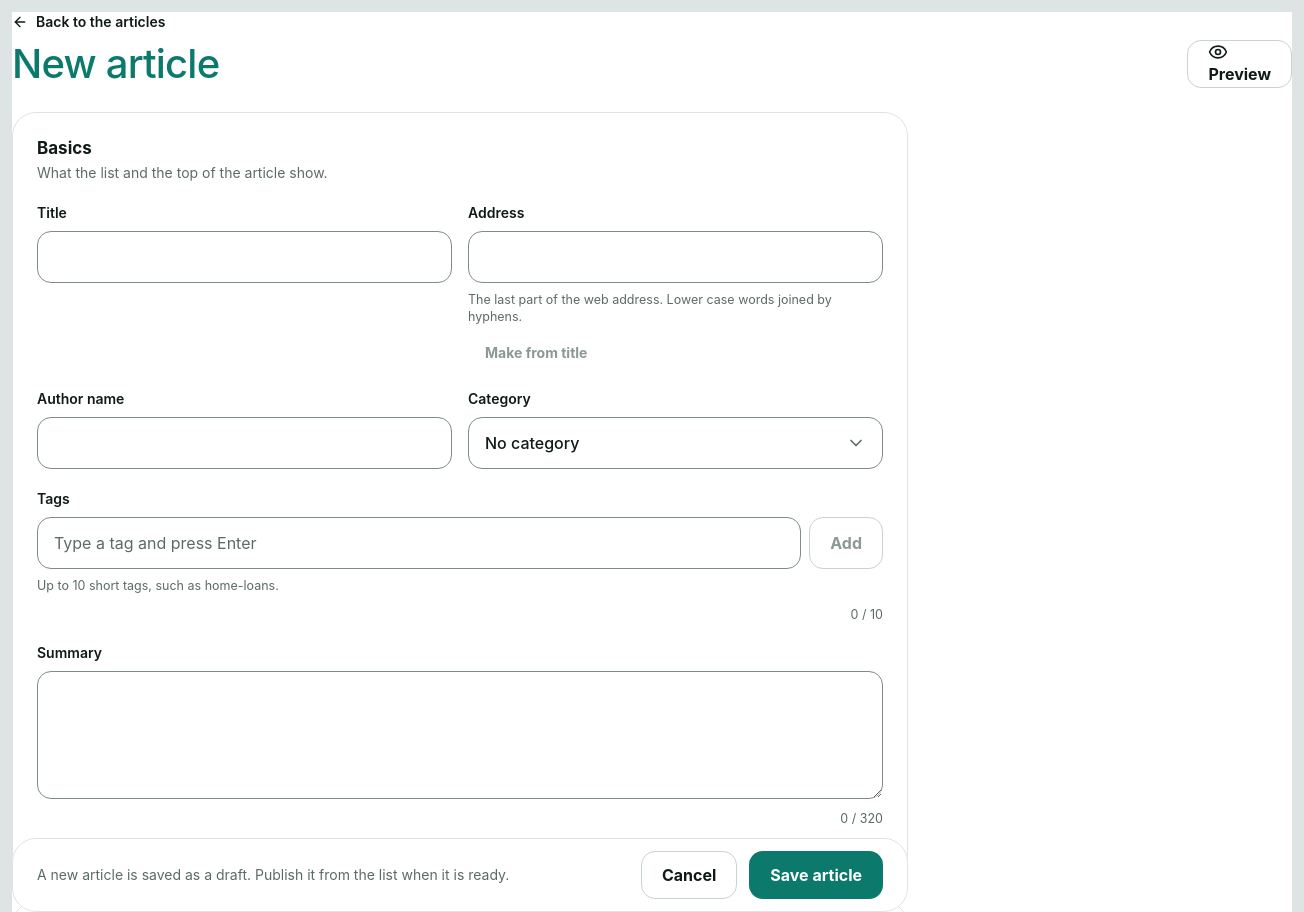
Test case: BlogEditor (ADR-143, ADR-144): the article page › makes the address from the title on request
In the field labelled "Title": coordinates (244, 257) [37, 231, 452, 283], type "What You Pay: Stamp Duty!"
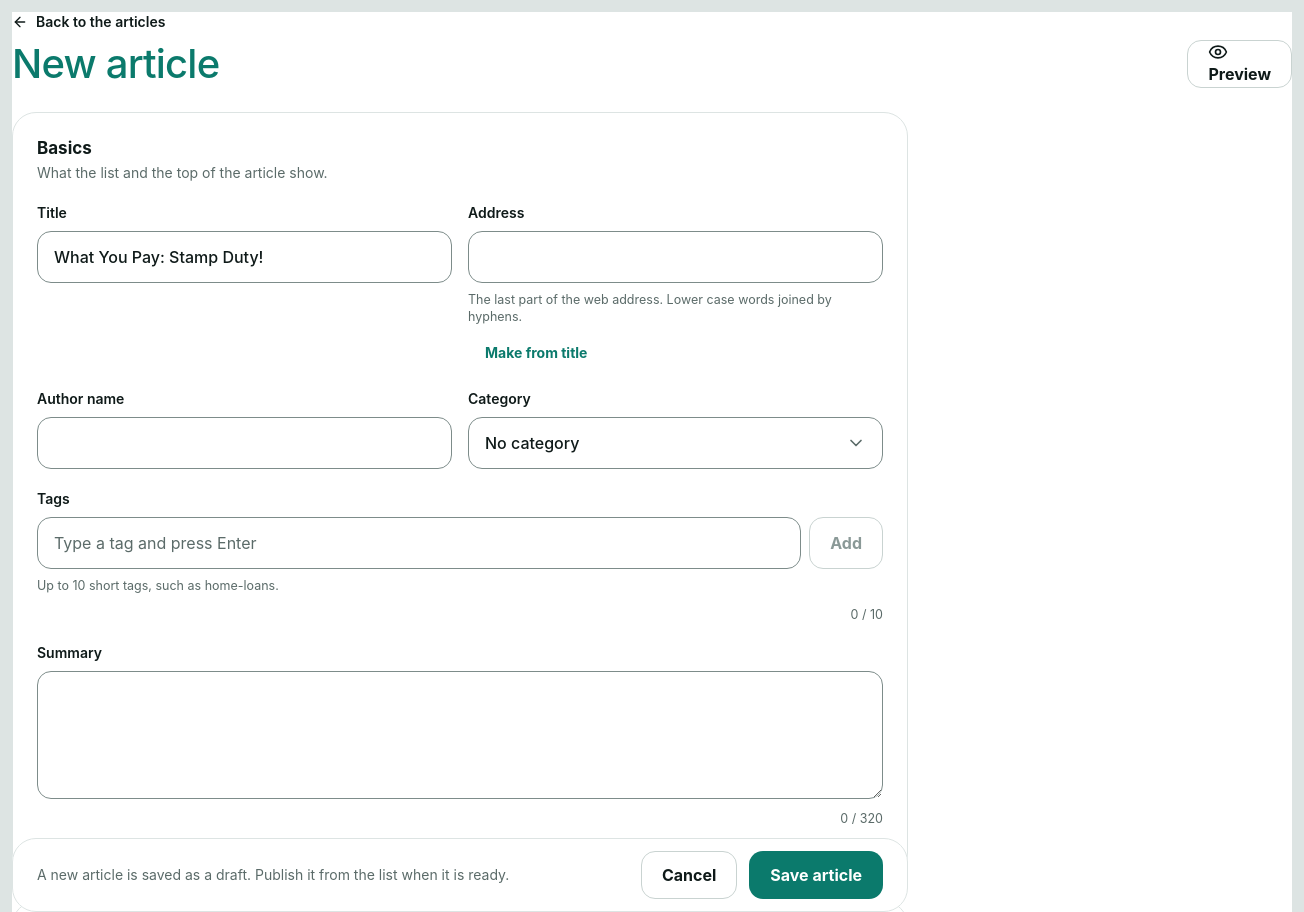
Click the button "Make from title": coordinates (536, 353) [468, 333, 604, 373]
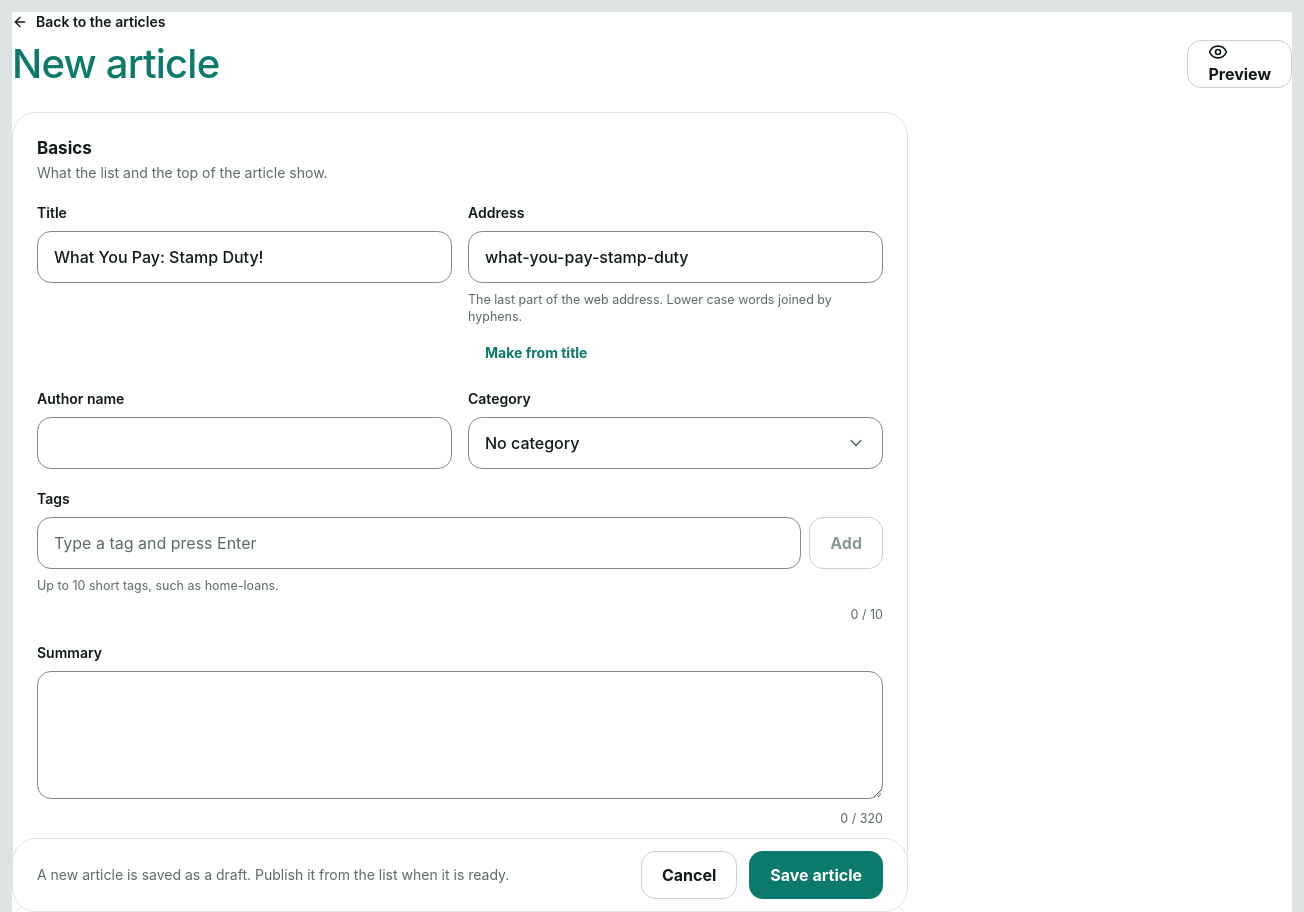
Expected: the field labelled "Address" holds "what-you-pay-stamp-duty", [468, 231, 883, 283]
